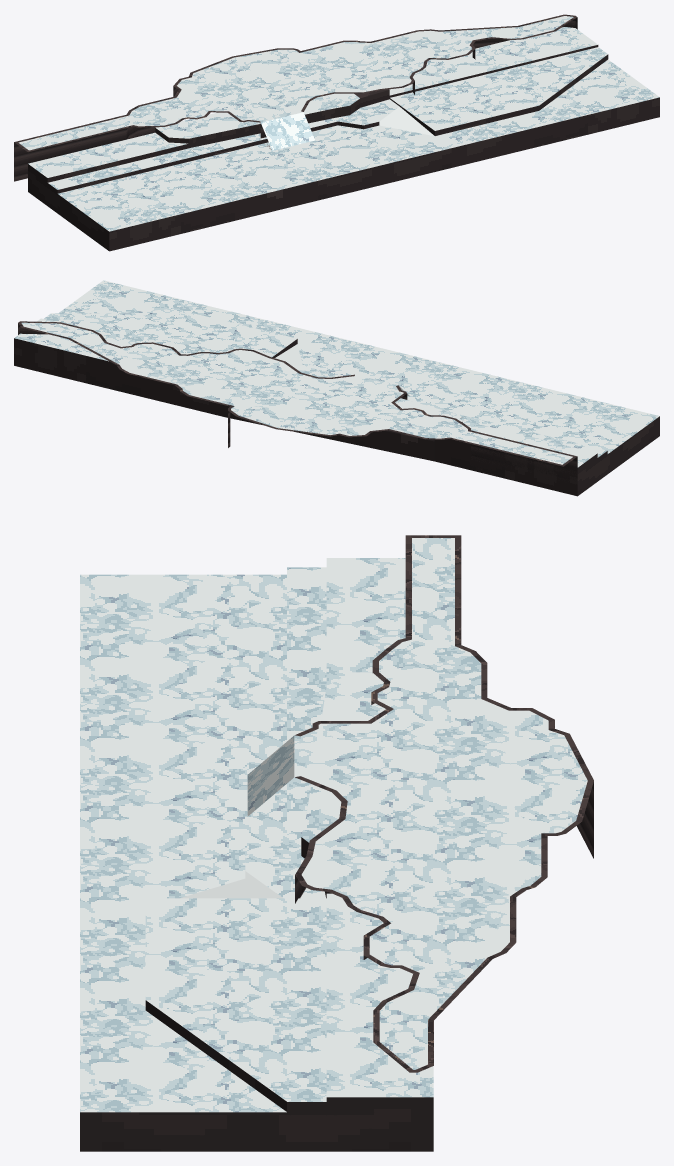
The model's file is map_mesh_titans_respite_4.glb.
3 views of the same model, one above another, from view 1: azimuth 30°, elevation 25°; view 2: azimuth 150°, elevation 25°; view 3: azimuth 270°, elevation 25° (orthographic). The views are drawn at different scales.
Parts seen in each view (by area): view 1: Plane.095, Plane.113; view 2: Plane.095, Plane.113; view 3: Plane.095, Plane.113.
Boxes of the visible parts, box(x1,y1,x2,y2) form: Plane.095: box(28, 27, 659, 251); Plane.113: box(14, 14, 577, 181); Plane.095: box(14, 280, 659, 496); Plane.113: box(18, 321, 577, 483); Plane.095: box(80, 558, 433, 1151); Plane.113: box(247, 535, 593, 1072).
Bounding box in the file's own units: 58.27 × 4 × 23.56.
Materials: 3 (3 with a texture image).
